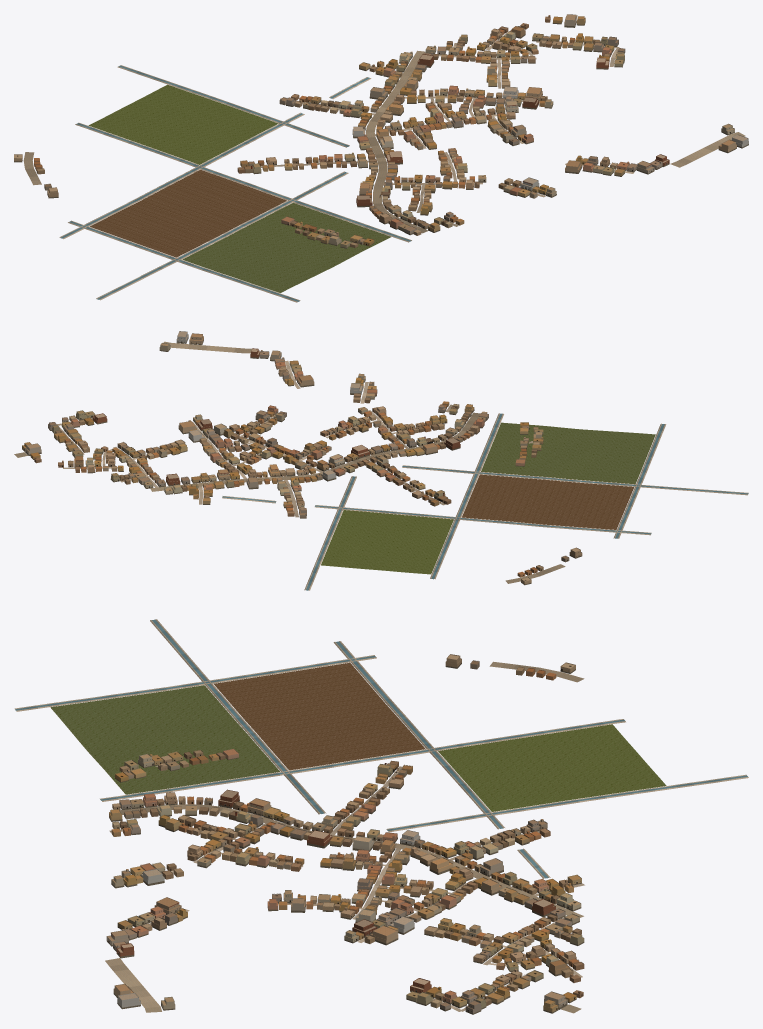
File: uruk_quarter_07.glb
3 views of the same model, one above another, from view 1: azimuth 30°, elevation 25°; view 2: azimuth 150°, elevation 25°; view 3: azimuth 270°, elevation 25° (orthographic). The views are drawn at different scales.
Visible parts, largest first — view 1: uruk_quarter_07; view 2: uruk_quarter_07; view 3: uruk_quarter_07.
Part boxes in pixels (x1,y1,x2,y2): uruk_quarter_07: (14,14,748,302); uruk_quarter_07: (14,331,748,590); uruk_quarter_07: (14,619,748,1014).
Size of the model in its own units: 823 by 19.22 by 633.
18 materials, 7 textured.
